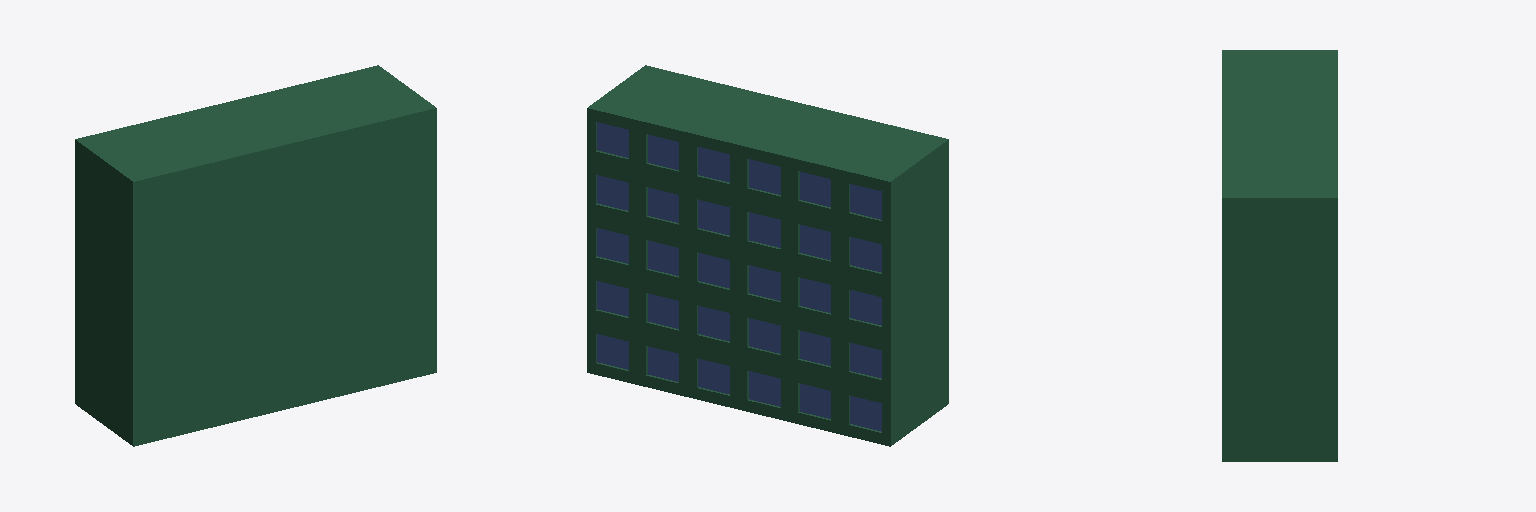
Rendered from Building2.obj.
3 views of the same model, side by side, from view 1: azimuth 30°, elevation 25°; view 2: azimuth 150°, elevation 25°; view 3: azimuth 270°, elevation 25° (orthographic).
Visible parts, largest first — view 1: Building_2_Plane.004; view 2: Building_2_Plane.004; view 3: Building_2_Plane.004.
Part boxes in pixels (left/top/right/bottom): Building_2_Plane.004: left=75, top=65, right=436, bottom=446; Building_2_Plane.004: left=587, top=65, right=948, bottom=446; Building_2_Plane.004: left=1222, top=50, right=1337, bottom=461.
Size of the model in its own units: 12 by 10 by 4.